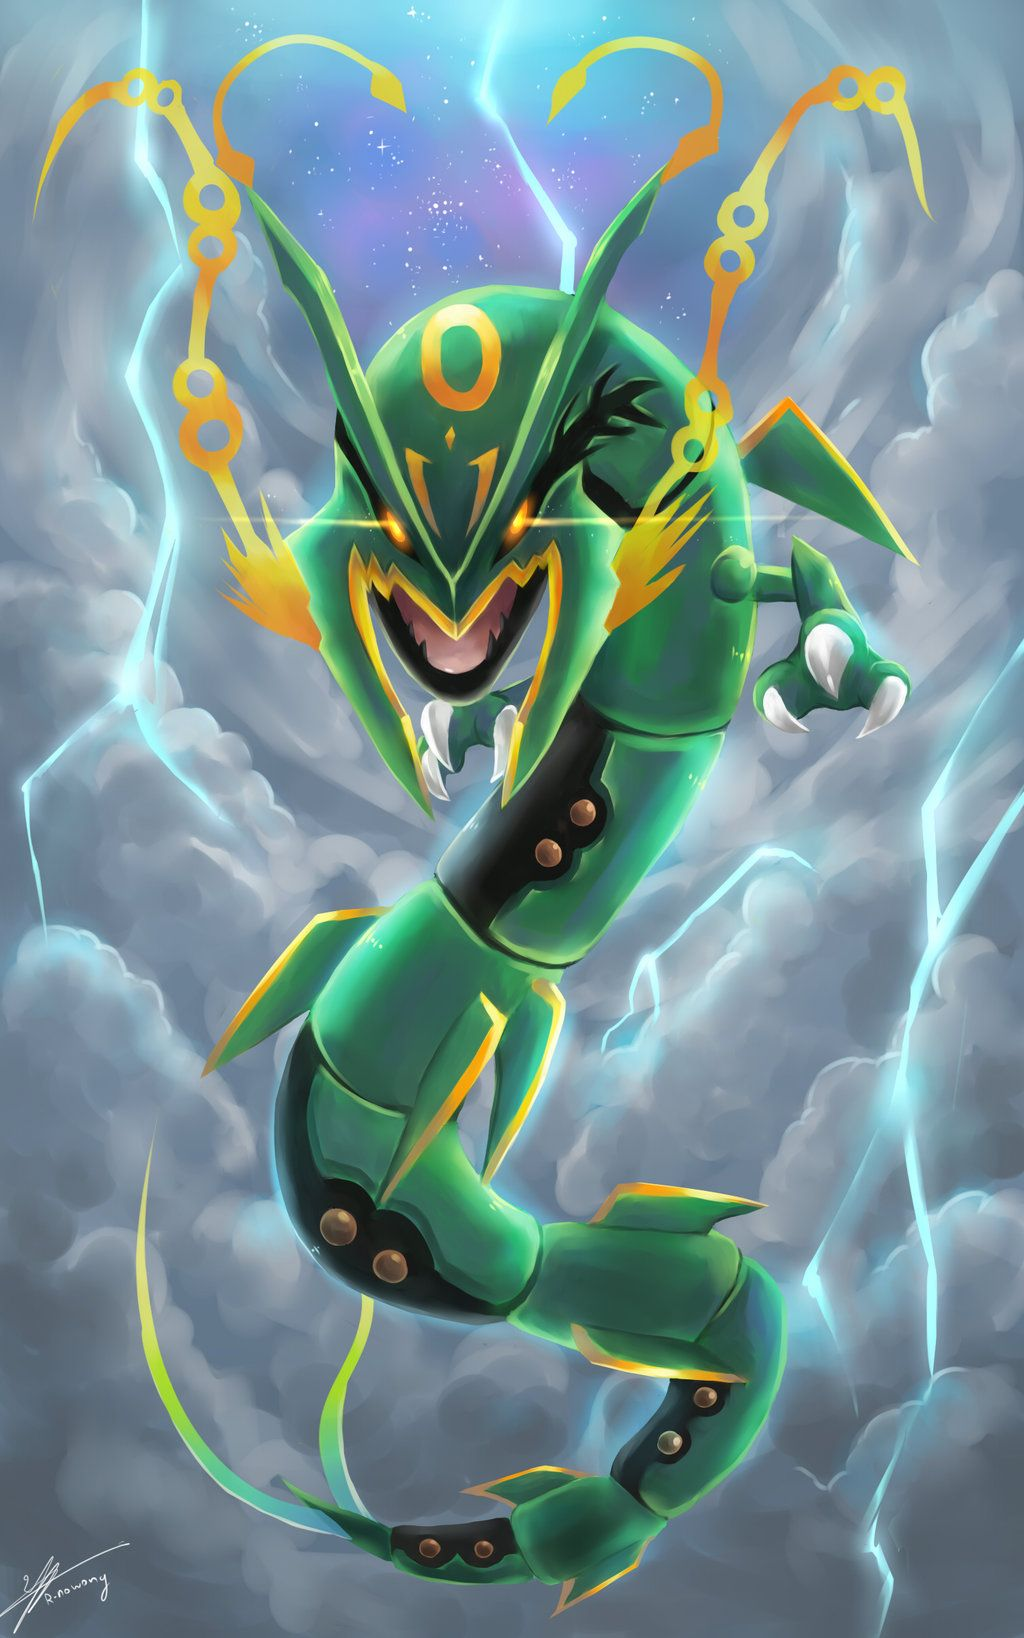rayquaza: (101, 129, 930, 1612)
